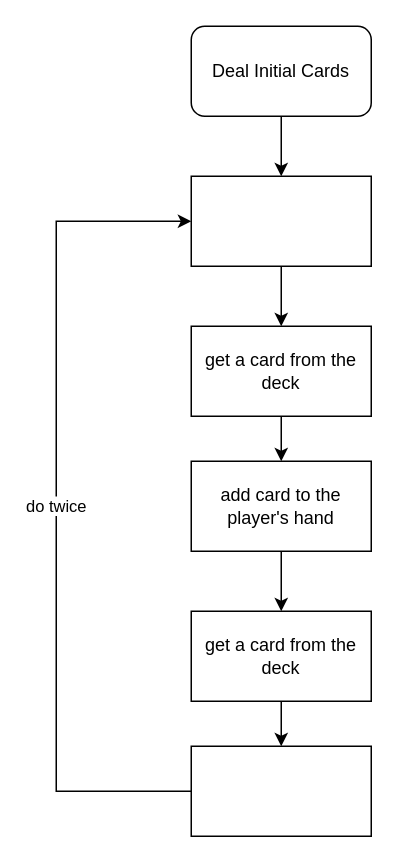
Image size: 398x863. Some labels were removed from this diagram. The centre of each missing label's shape, as x and y in pixels:
"add card to the dealer's hand" goes at pixel 280 790.
"Start Loop" goes at pixel 280 220.
